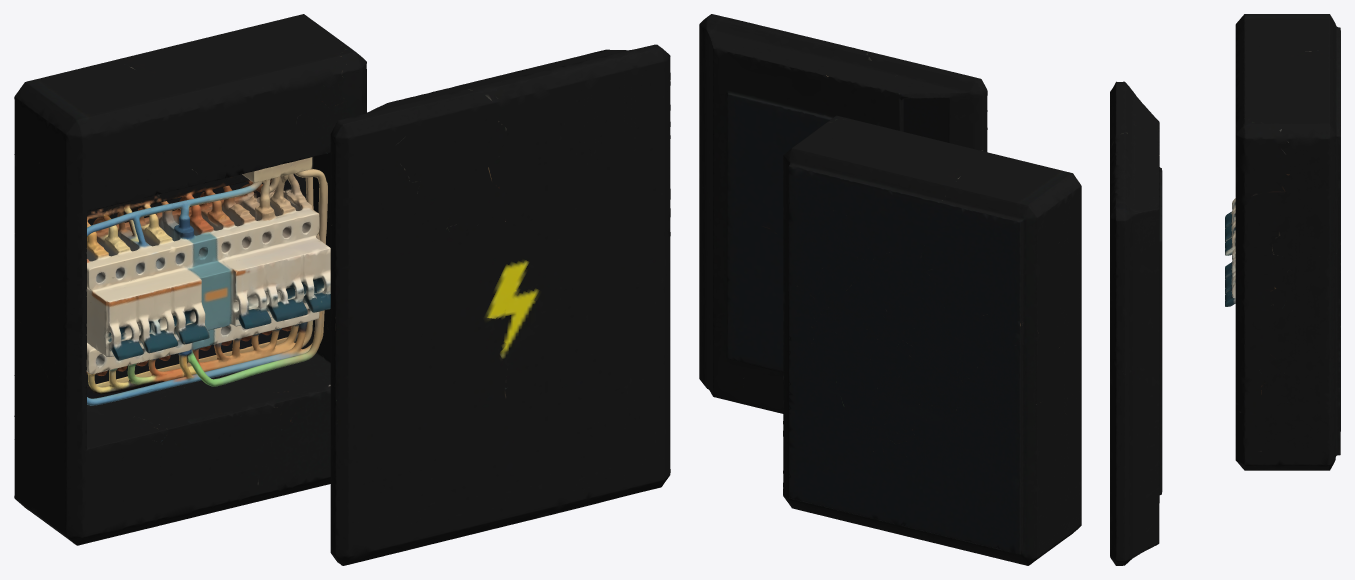
The model's file is TacoLuz_Separado.glb.
3 renders of one model, left to right at view 1: azimuth 30°, elevation 25°; view 2: azimuth 150°, elevation 25°; view 3: azimuth 270°, elevation 25°, orthographic. The views are drawn at different scales.
Parts seen in each view (by area): view 1: Tapa, Caja; view 2: Caja, Tapa; view 3: Caja, Tapa.
Part boxes in pixels (box(x1,y1,x2,y2)): Tapa: box(330, 44, 670, 565); Caja: box(14, 14, 366, 545); Caja: box(783, 115, 1081, 565); Tapa: box(699, 14, 987, 413); Caja: box(1225, 14, 1340, 470); Tapa: box(1110, 81, 1162, 565).
Bounding box in the file's own units: 1.9 × 1.53 × 0.8889.
Materials: 1 (1 with a texture image).
